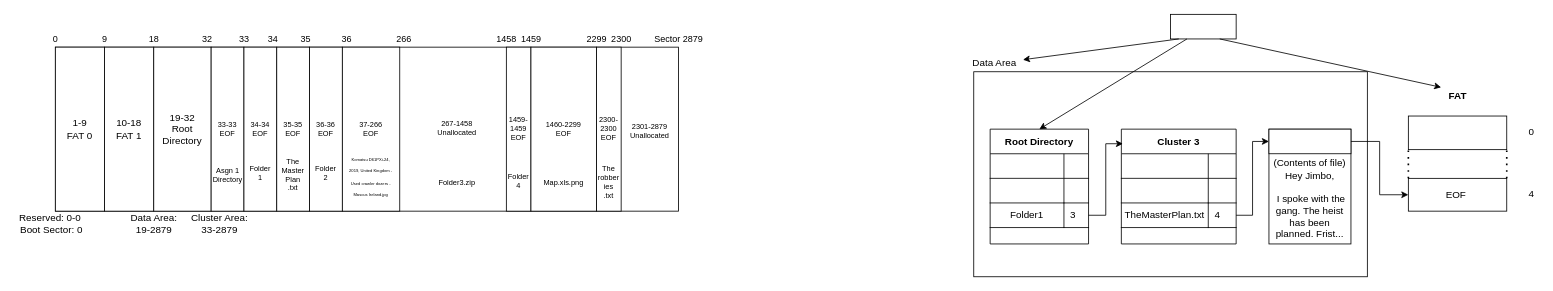
Some shapes in this 1553 by 291 pixel diagram are drawn without their labels. Each missing label, with the centre of its shape:
Boot Sector: [1203,26]
Cluster 4: [1309,141]
